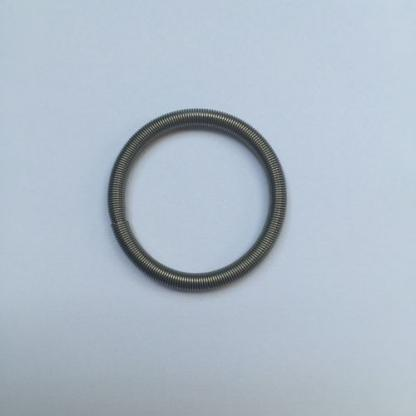FOD: (101, 101, 288, 293)
